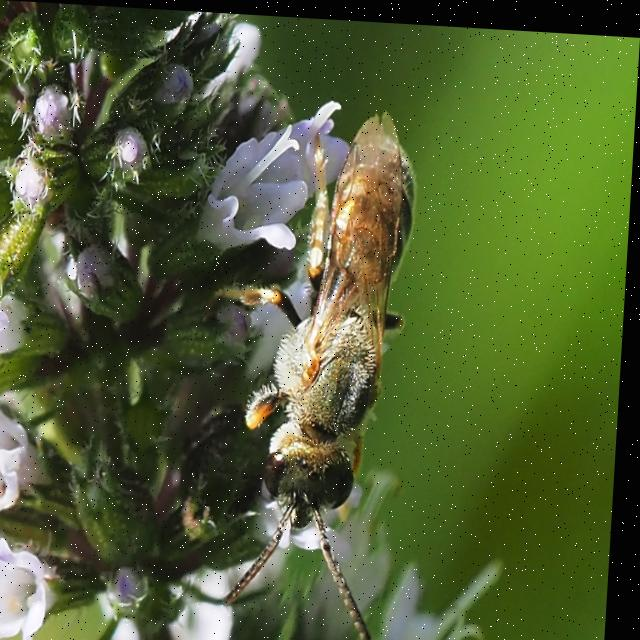Lasioglossum: (206, 87, 452, 640)
